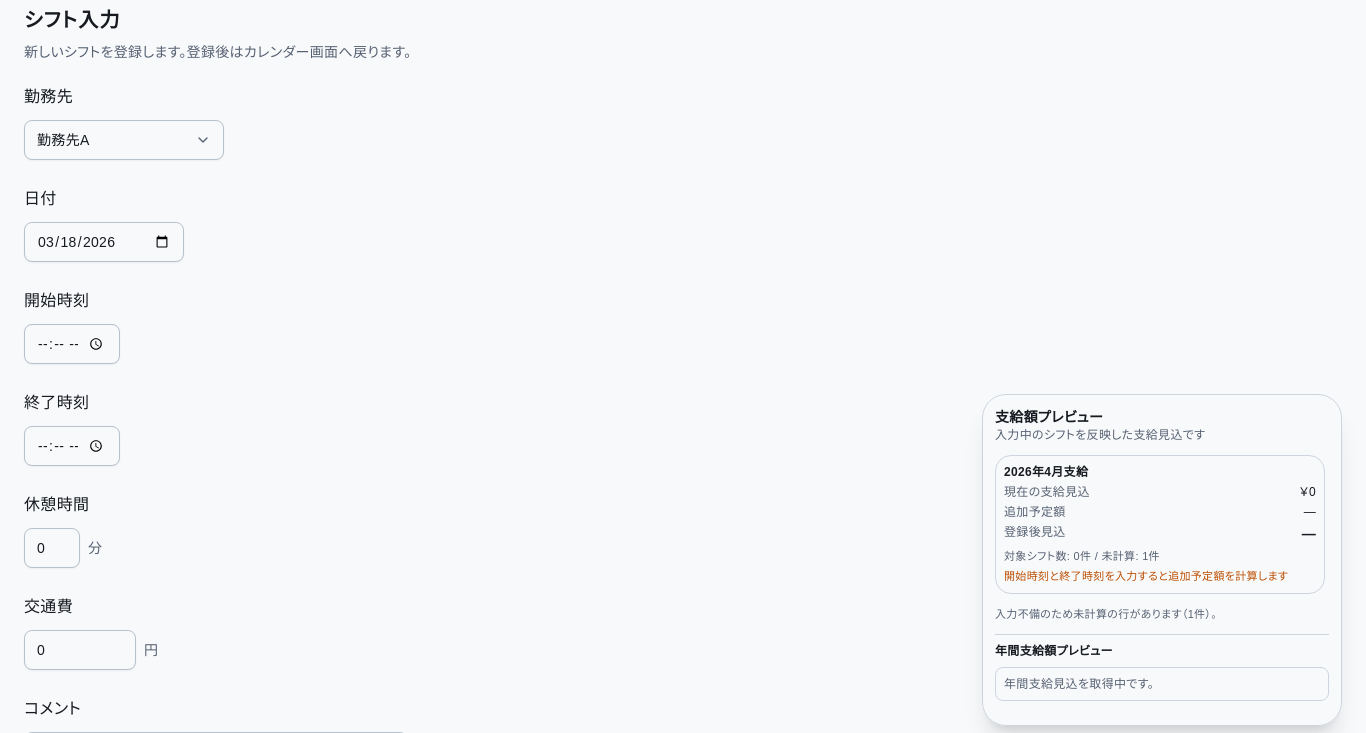
Scenario: shift flow integration › shows validation error when start and end time are the same in create mode
This screenshot has width=1366, height=733.
Type "18:00" into the time field labelled "開始時刻" at (72, 344), box [24,324,120,364]
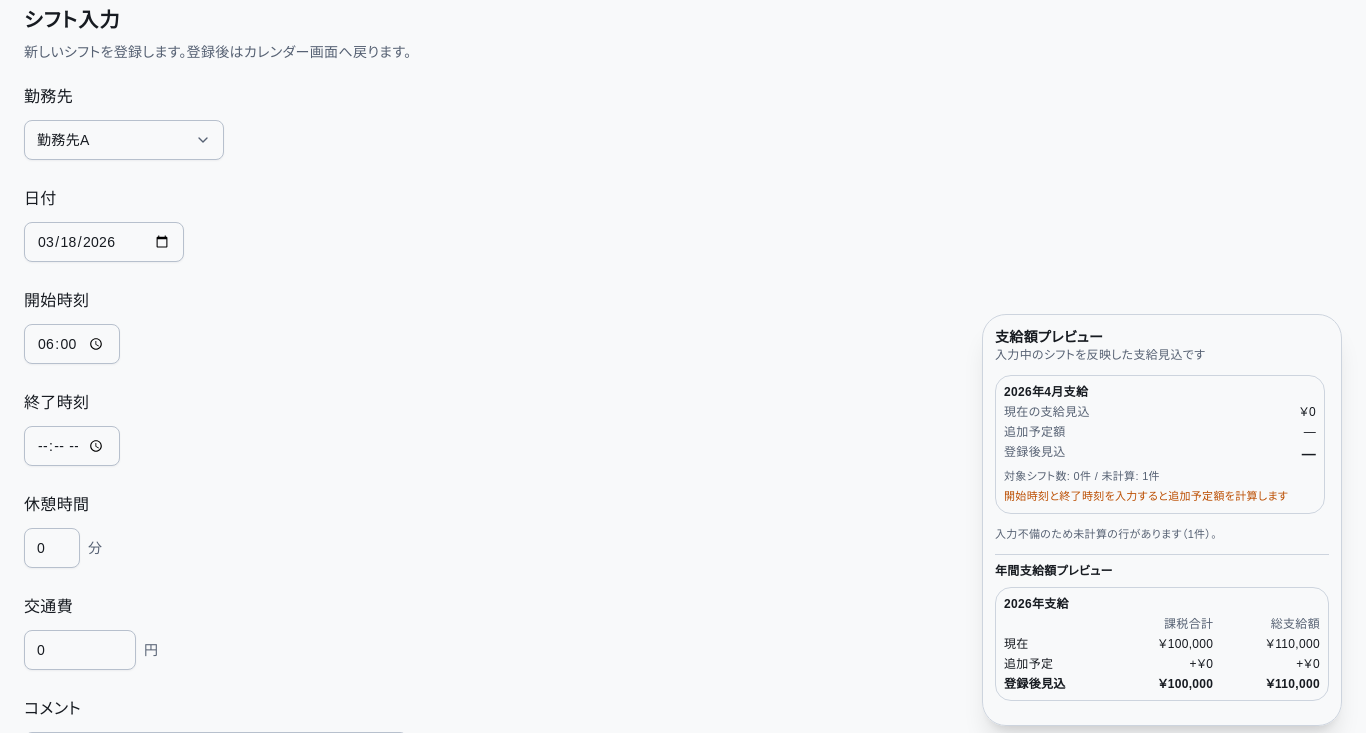
Type "18:00" into the time field labelled "終了時刻" at (72, 446), box [24,426,120,466]
(page scrolled)
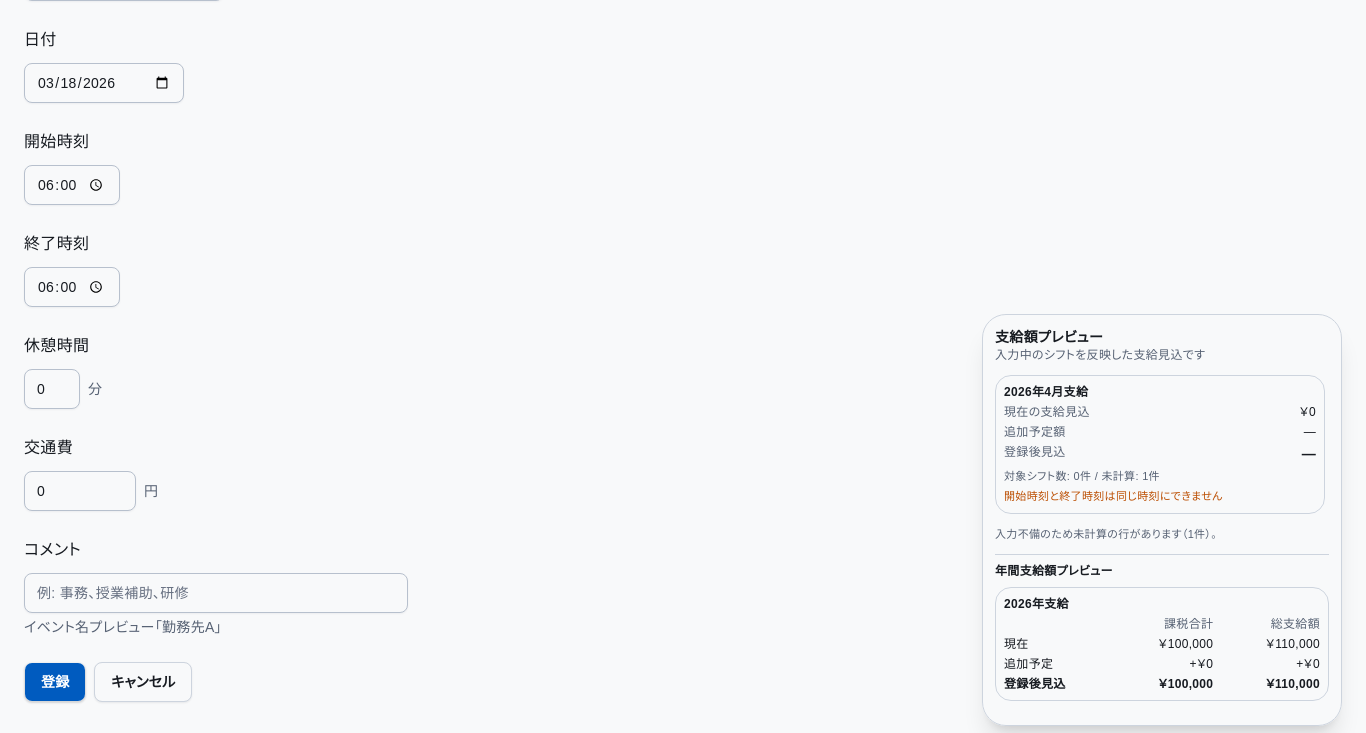
Click the button "登録" at (55, 682), box [24,662,86,702]
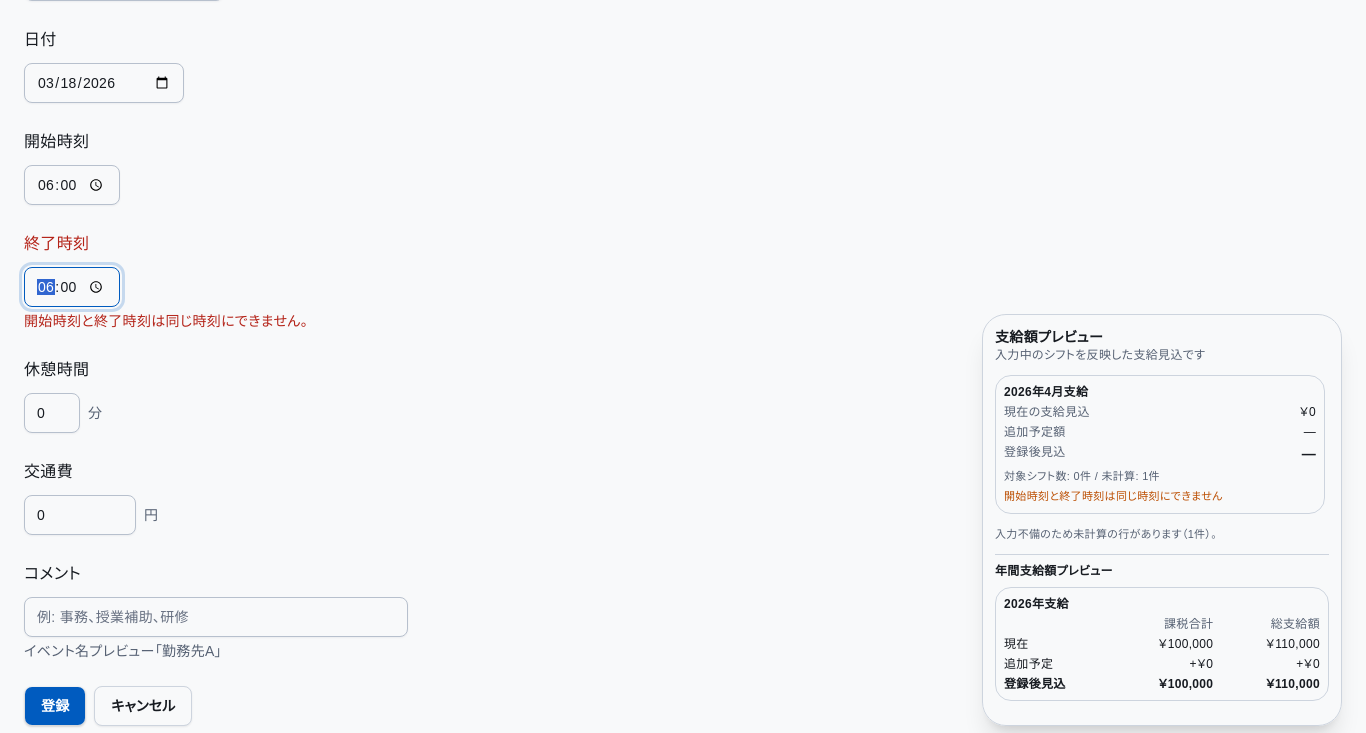
Expected: the text "開始時刻と終了時刻は同じ時刻にできません。" is shown, [24,313,308,329]
